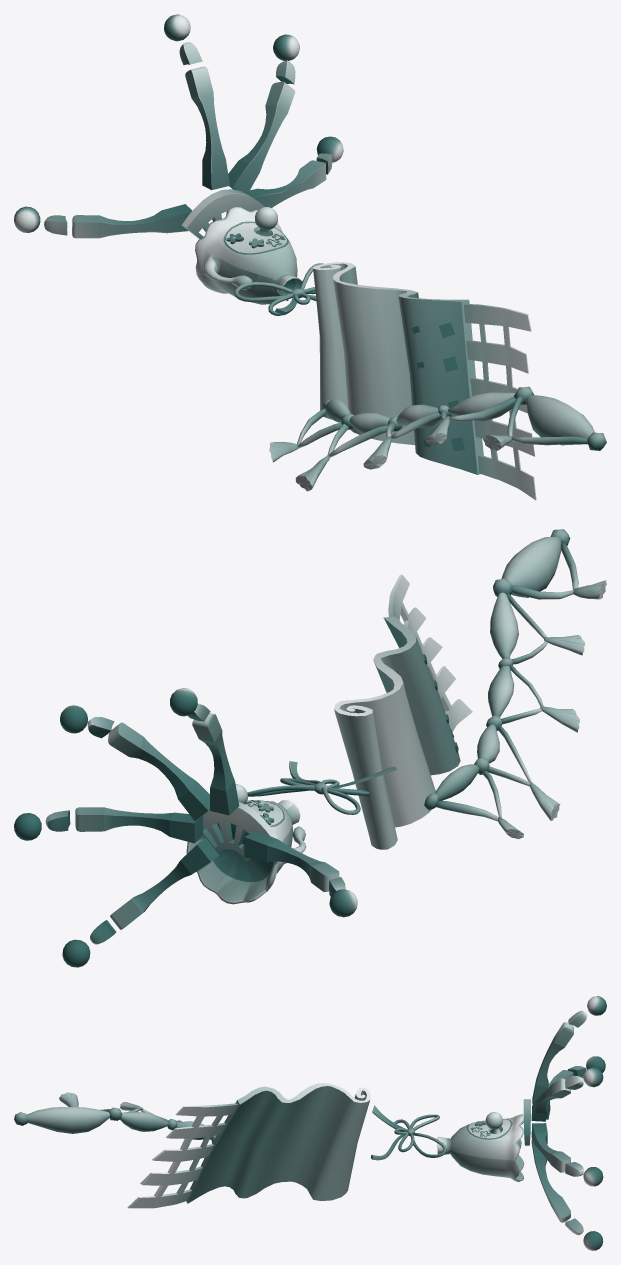
The model's file is Arm_Mercy_B.fbx.
3 views of the same model, one above another, from view 1: azimuth 30°, elevation 25°; view 2: azimuth 150°, elevation 25°; view 3: azimuth 270°, elevation 25° (orthographic). The views are drawn at different scales.
Parts seen in each view (by area): view 1: Scarf, Tie, Cup, finger_1, finger_2, finger_3, finger_4, Plam, BowTie; view 2: Scarf, Tie, Cup, finger_2, finger_4, finger_5, finger_1, finger_3, Plam, BowTie; view 3: Scarf, Cup, Tie, finger_1, finger_5, finger_4, finger_2, BowTie, finger_3.
Boxes of the visible parts, x1=… form: Scarf: x1=313, y1=262, x2=536, y2=500; Tie: x1=269, y1=386, x2=606, y2=491; Cup: x1=195, y1=207, x2=302, y2=304; finger_1: x1=164, y1=14, x2=229, y2=190; finger_2: x1=228, y1=34, x2=299, y2=193; finger_3: x1=14, y1=204, x2=192, y2=238; finger_4: x1=248, y1=136, x2=343, y2=207; Plam: x1=182, y1=189, x2=264, y2=238; BowTie: x1=234, y1=263, x2=323, y2=315; Scarf: x1=334, y1=574, x2=472, y2=849; Tie: x1=424, y1=529, x2=606, y2=839; Cup: x1=186, y1=784, x2=306, y2=904; finger_2: x1=60, y1=705, x2=209, y2=820; finger_4: x1=14, y1=807, x2=202, y2=843; finger_5: x1=62, y1=838, x2=219, y2=967; finger_1: x1=170, y1=688, x2=239, y2=815; finger_3: x1=244, y1=830, x2=357, y2=917; Plam: x1=202, y1=802, x2=277, y2=861; BowTie: x1=247, y1=761, x2=396, y2=814; Scarf: x1=127, y1=1083, x2=370, y2=1208; Cup: x1=437, y1=1112, x2=524, y2=1181; Tie: x1=14, y1=1092, x2=216, y2=1142; finger_1: x1=532, y1=996, x2=606, y2=1104; finger_5: x1=531, y1=1139, x2=603, y2=1250; finger_4: x1=531, y1=1123, x2=603, y2=1186; finger_2: x1=531, y1=1067, x2=603, y2=1121; BowTie: x1=371, y1=1105, x2=446, y2=1160; finger_3: x1=546, y1=1056, x2=605, y2=1119.
Size of the model in its own units: 31.6 by 27 by 67.42.
